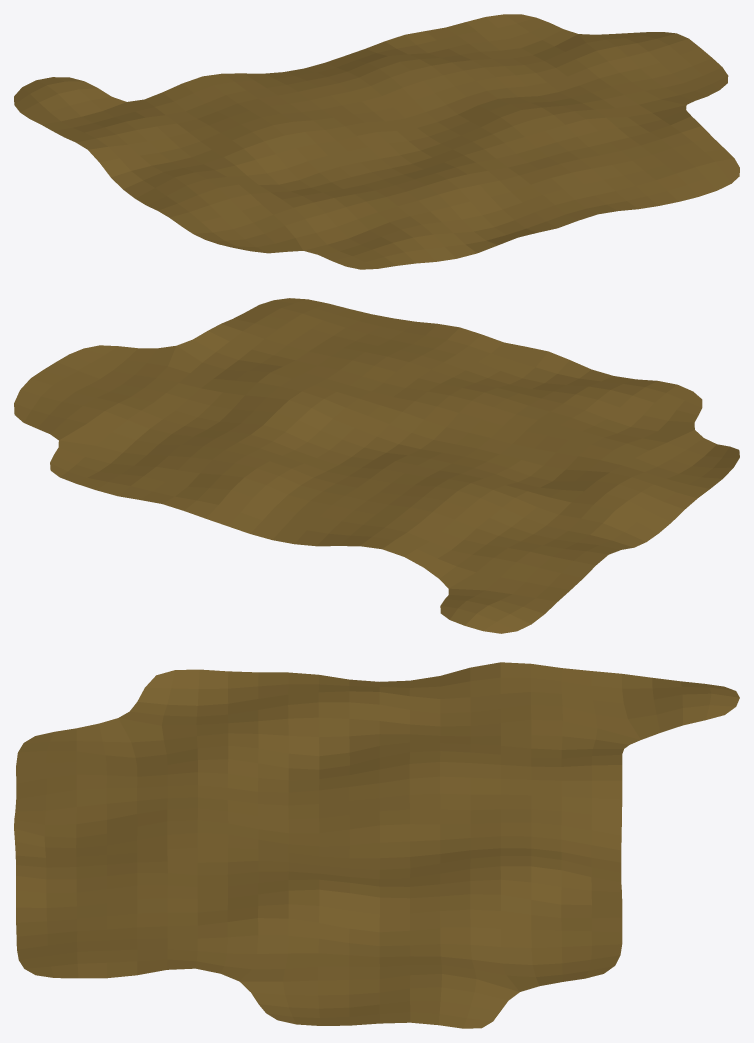
The model's file is groundGrass.fbx.
3 renders of one model, top to bottom at view 1: azimuth 30°, elevation 25°; view 2: azimuth 150°, elevation 25°; view 3: azimuth 270°, elevation 25°, orthographic. The views are drawn at different scales.
Visible parts, largest first — view 1: Plane; view 2: Plane; view 3: Plane.
Boxes of the visible parts, <box> form: Plane: <box>14,14,739,269</box>; Plane: <box>14,298,739,633</box>; Plane: <box>14,662,739,1028</box>.
Bounding box in the file's own units: 15.98 × 0.5154 × 13.66.
